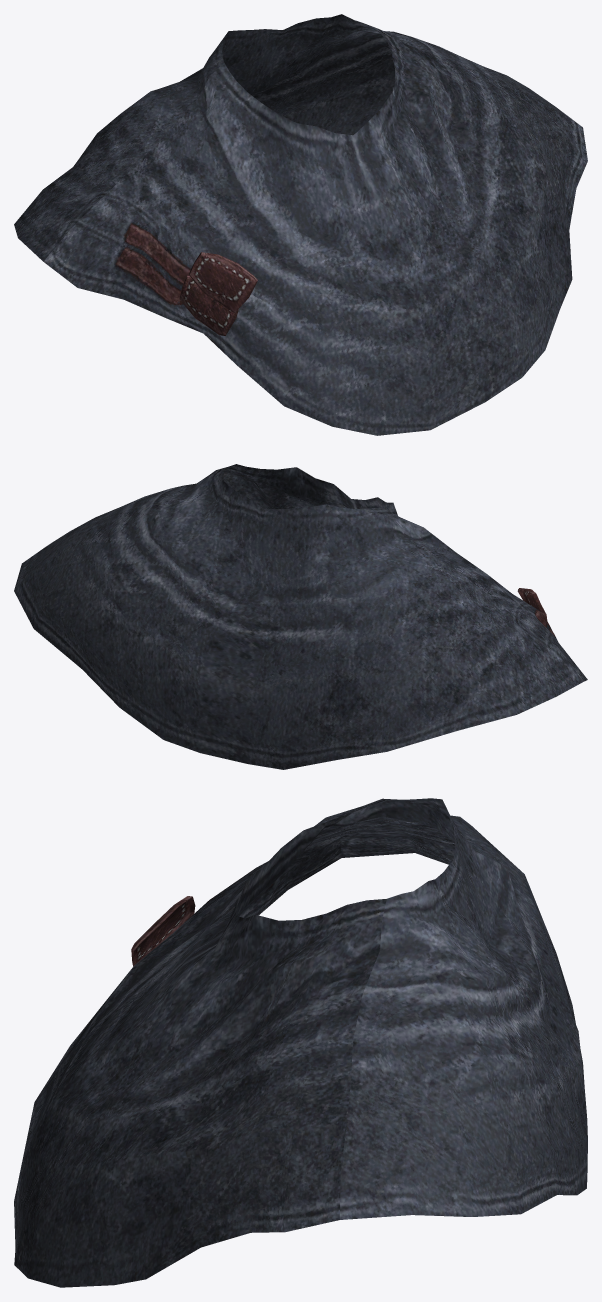
Rendered from Maintle_01.fbx.
3 views of the same model, one above another, from view 1: azimuth 30°, elevation 25°; view 2: azimuth 150°, elevation 25°; view 3: azimuth 270°, elevation 25° (orthographic). The views are drawn at different scales.
Visible parts, largest first — view 1: F_Human_01_Mantle; view 2: F_Human_01_Mantle; view 3: F_Human_01_Mantle.
Boxes of the visible parts, box(x1,y1,x2,y2) form: F_Human_01_Mantle: box(14, 14, 587, 435); F_Human_01_Mantle: box(14, 464, 587, 769); F_Human_01_Mantle: box(14, 798, 587, 1287).
Bounding box in the file's own units: 53 × 28.08 × 35.08.
Materials: 1 (1 with a texture image).
